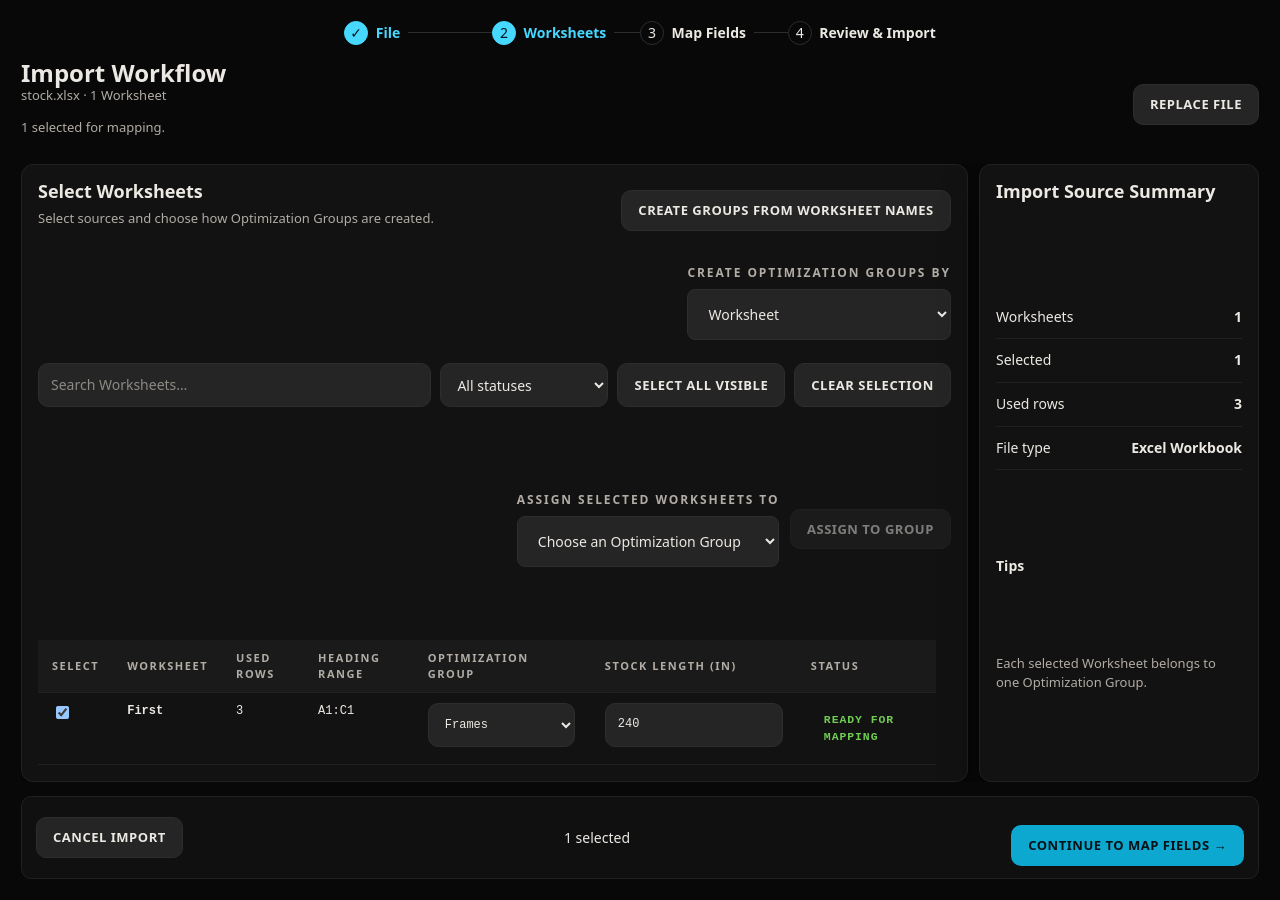
Stock-Length Import Workflow › shows the complete application schema before Auto-map and keeps readiness messaging consistent
This screenshot has width=1280, height=900.
Step 1. Click the button "Continue to Map Fields →" → click(1128, 846), box [1011,825,1244,866]
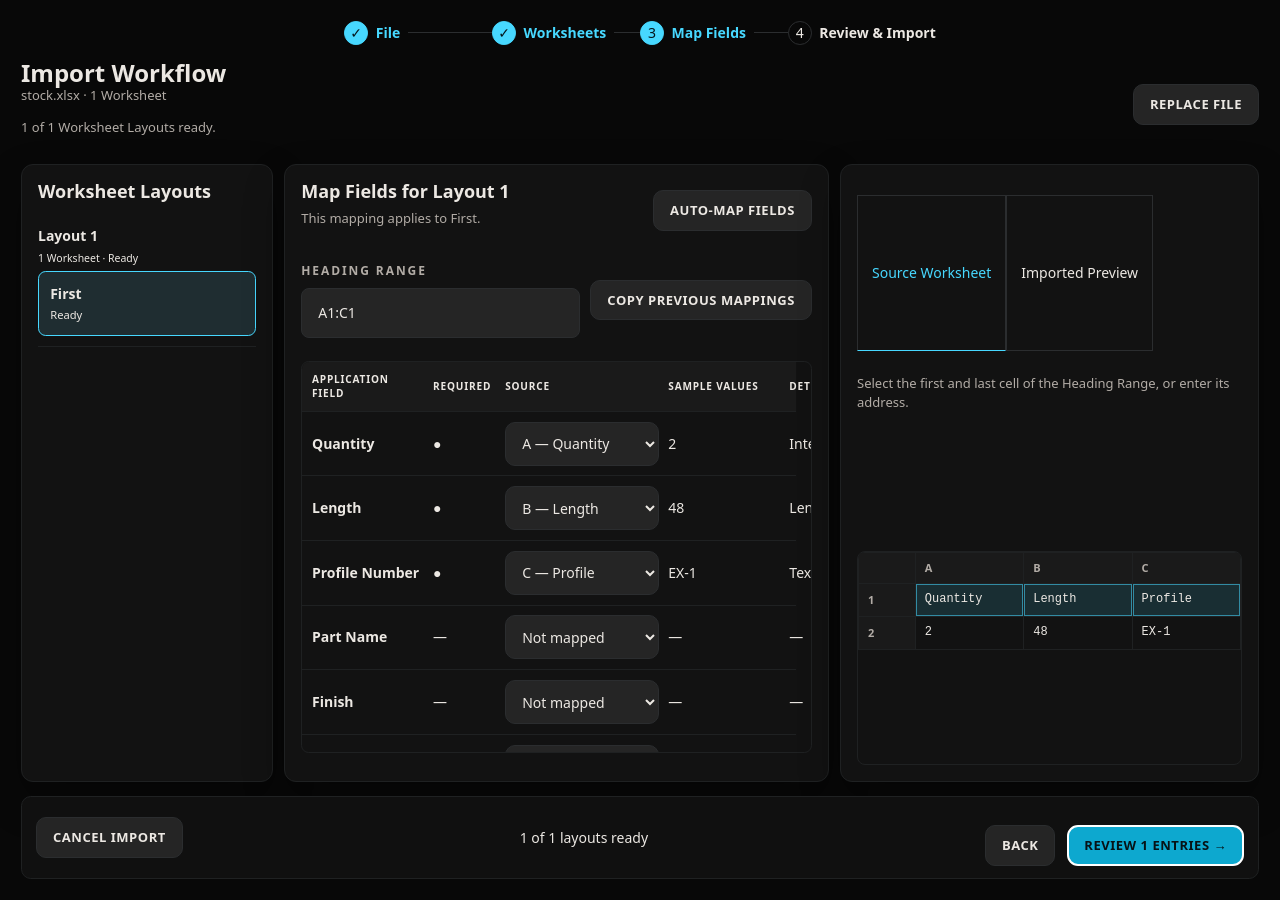
Expected: the dropdown named "First column for Quantity" is shown, [505,422,659,466]
Expected: the dropdown named "First column for Profile Number" is shown, [505,551,659,595]
